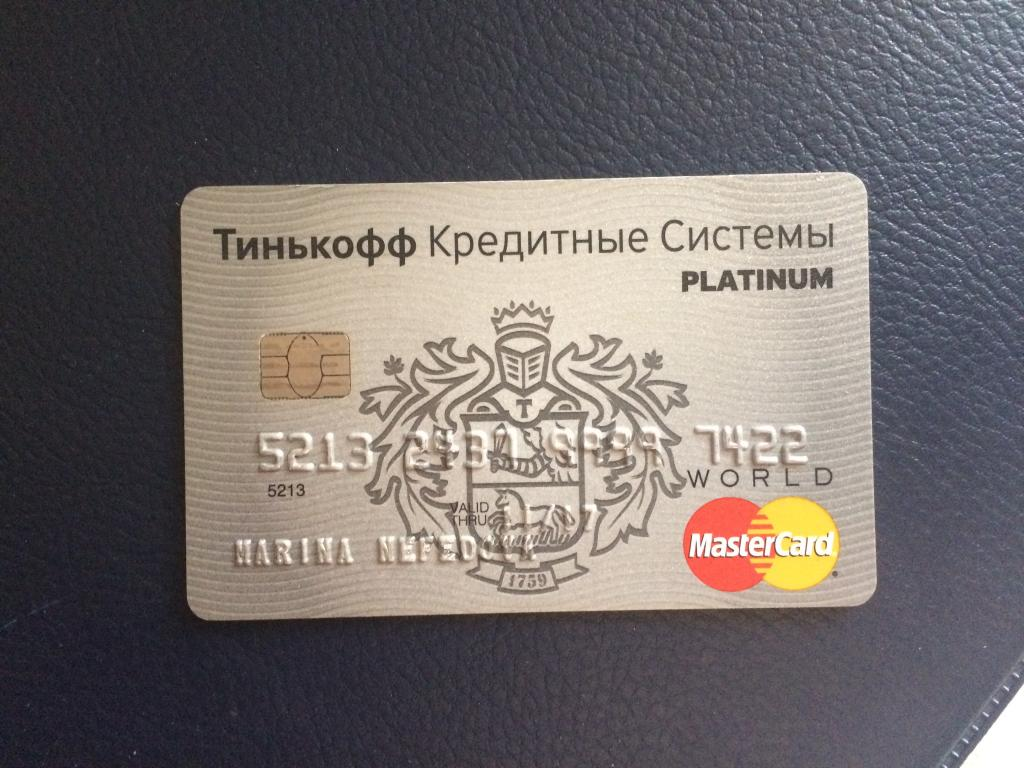card: (177, 171, 879, 623)
